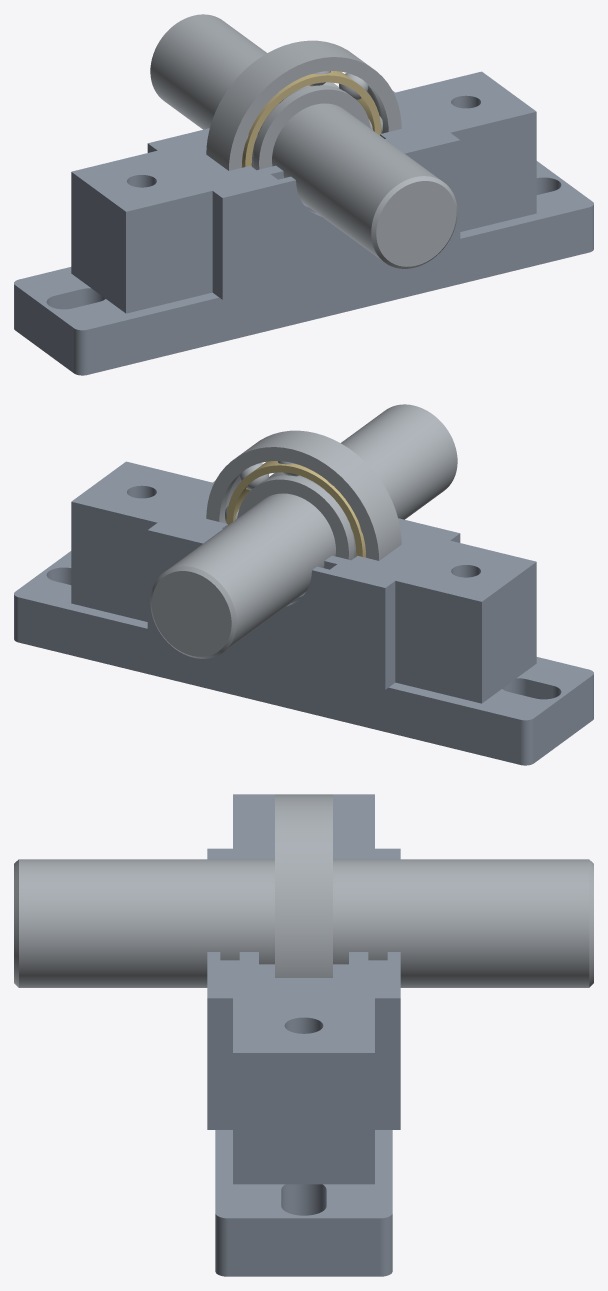
Rendered from step_22.glb.
The picture shows the model from 3 angles, top to bottom: view 1: azimuth 30°, elevation 25°; view 2: azimuth 150°, elevation 25°; view 3: azimuth 270°, elevation 25°; orthographic projection. The views are drawn at different scales.
Parts seen in each view (by area): view 1: part__housing base, part__shaft, part__bearing outer ring, part__bearing inner ring, part__bearing cage; view 2: part__housing base, part__shaft, part__bearing outer ring, part__bearing inner ring, part__bearing cage; view 3: part__housing base, part__shaft, part__bearing outer ring.
Boxes of the visible parts, box(x1,y1,x2,y2) form: part__housing base: box(14, 71, 593, 375); part__shaft: box(150, 14, 457, 268); part__bearing outer ring: box(206, 40, 401, 170); part__bearing inner ring: box(251, 82, 370, 170); part__bearing cage: box(241, 71, 381, 167); part__housing base: box(14, 461, 593, 765); part__shaft: box(150, 404, 457, 658); part__bearing outer ring: box(206, 430, 401, 560); part__bearing inner ring: box(237, 472, 356, 560); part__bearing cage: box(226, 461, 366, 557); part__housing base: box(207, 794, 400, 1276); part__shaft: box(14, 859, 593, 987); part__bearing outer ring: box(275, 794, 332, 977).
Size of the model in its own units: 240 by 105 by 180.
